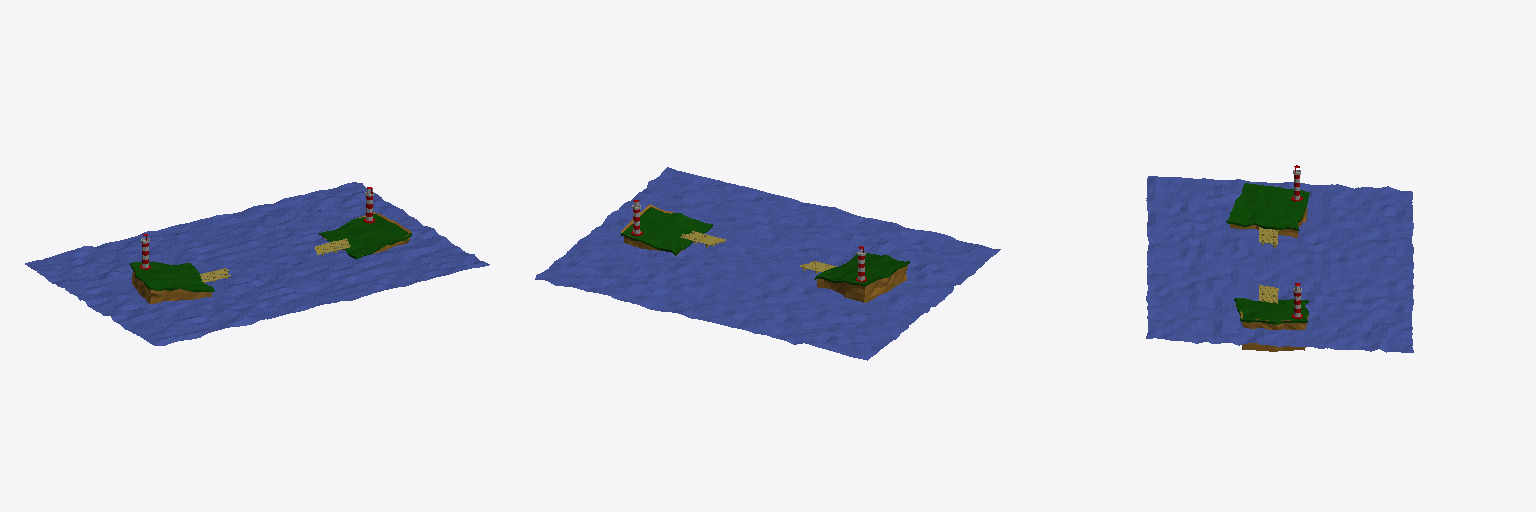
File: islas.obj
3 renders of one model, left to right at view 1: azimuth 30°, elevation 25°; view 2: azimuth 150°, elevation 25°; view 3: azimuth 270°, elevation 25°, orthographic.
Parts seen in each view (by area): view 1: mar_Plane.002_Plane.003, tierra_2_Plane.006_Plane.000, tierra_1_Plane.006_Plane.007, pasto_1_Plane; view 2: mar_Plane.002_Plane.003, tierra_2_Plane.006_Plane.000, tierra_1_Plane.006_Plane.007, pasto_1_Plane; view 3: mar_Plane.002_Plane.003, tierra_1_Plane.006_Plane.007, tierra_2_Plane.006_Plane.000, pasto_3_Plane.001.
Part boxes in pixels (left/top/right/bottom): mar_Plane.002_Plane.003: left=25, top=182, right=489, bottom=345; tierra_2_Plane.006_Plane.000: left=319, top=214, right=411, bottom=259; tierra_1_Plane.006_Plane.007: left=130, top=261, right=214, bottom=292; pasto_1_Plane: left=132, top=270, right=211, bottom=303; mar_Plane.002_Plane.003: left=535, top=167, right=1000, bottom=360; tierra_2_Plane.006_Plane.000: left=620, top=207, right=712, bottom=255; tierra_1_Plane.006_Plane.007: left=814, top=253, right=909, bottom=286; pasto_1_Plane: left=817, top=265, right=907, bottom=302; mar_Plane.002_Plane.003: left=1146, top=176, right=1413, bottom=352; tierra_1_Plane.006_Plane.007: left=1226, top=183, right=1309, bottom=230; tierra_2_Plane.006_Plane.000: left=1234, top=298, right=1308, bottom=324; pasto_3_Plane.001: left=1235, top=304, right=1308, bottom=351.
Size of the model in its own units: 49.97 by 11.58 by 34.44.